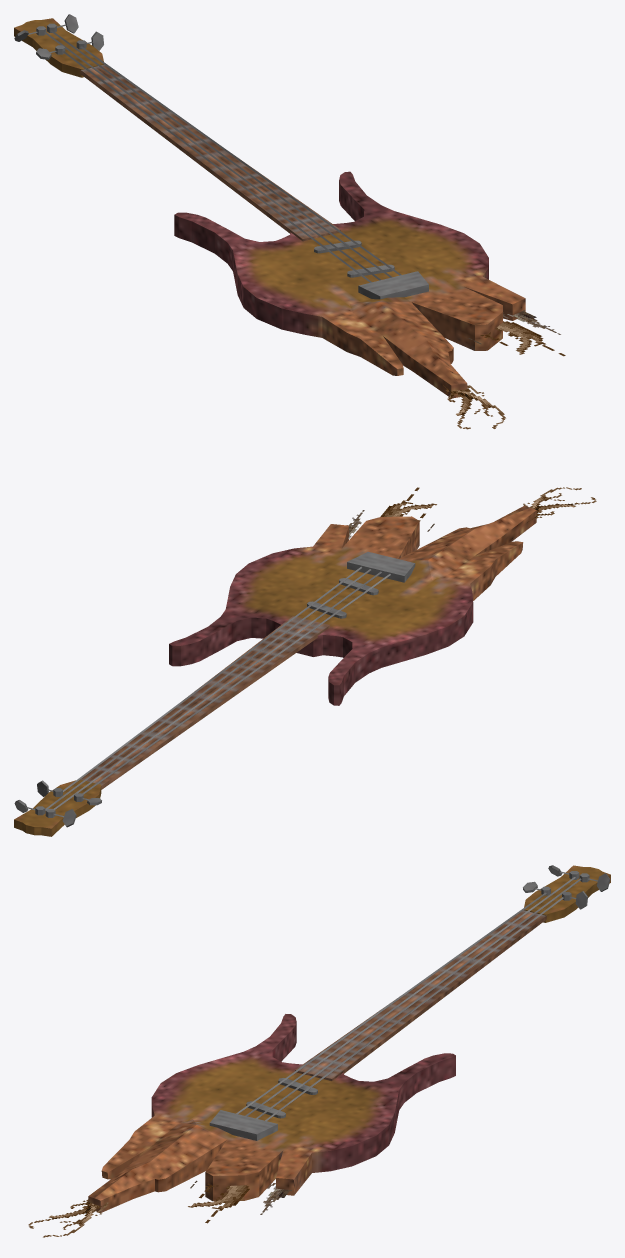
File: Bass_02_Hand.glb
3 views of the same model, one above another, from view 1: azimuth 30°, elevation 25°; view 2: azimuth 150°, elevation 25°; view 3: azimuth 330°, elevation 25° (orthographic). The views are drawn at different scales.
Parts seen in each view (by area): view 1: Bass_02; view 2: Bass_02; view 3: Bass_02.
Part boxes in pixels (x1=…): Bass_02: x1=14, y1=14, x2=565, y2=429; Bass_02: x1=14, y1=487, x2=596, y2=836; Bass_02: x1=28, y1=865, x2=610, y2=1237.
Bounding box in the file's own units: 0.3759 × 0.0598 × 1.52.
Materials: 2 (2 with a texture image).
